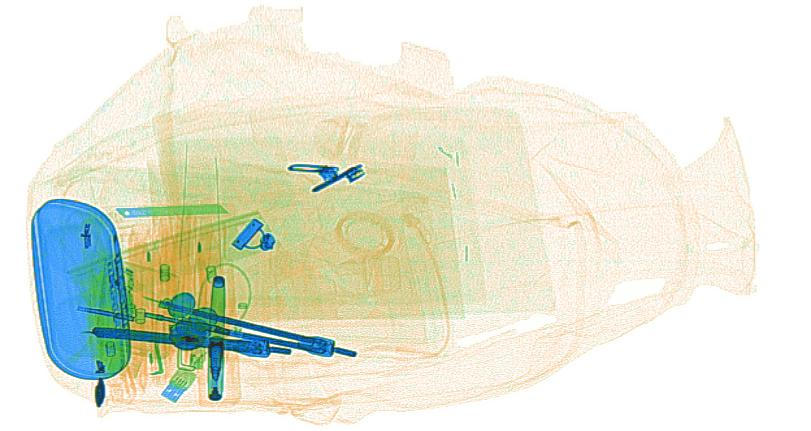USBFlashDisk: (158, 368, 197, 401)
knife: (114, 204, 230, 217)
